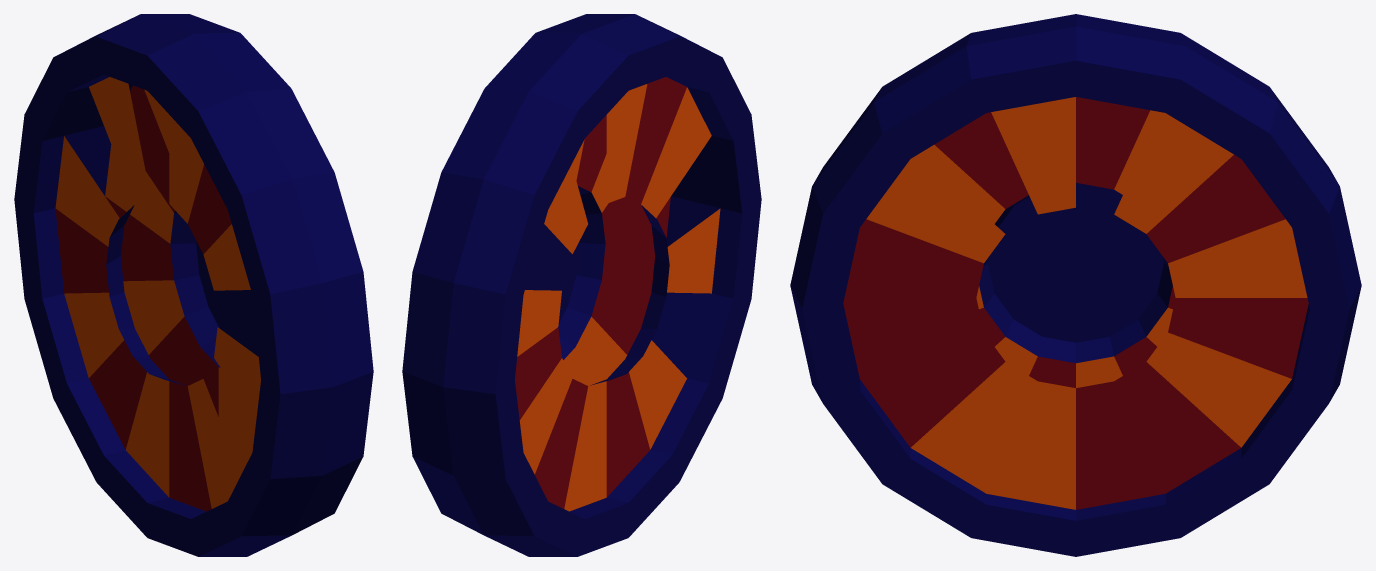
Rendered from hektor_tire_mesh.glb.
The picture shows the model from 3 angles, left to right: view 1: azimuth 30°, elevation 25°; view 2: azimuth 150°, elevation 25°; view 3: azimuth 270°, elevation 25°; orthographic projection. The views are drawn at different scales.
Parts seen in each view (by area): view 1: wheel; view 2: wheel; view 3: wheel.
Part boxes in pixels (x1,y1,x2,y2): wheel: (14,14,373,556); wheel: (402,14,761,556); wheel: (790,14,1361,556).
Size of the model in its own units: 0.2246 by 1.16 by 1.16.
